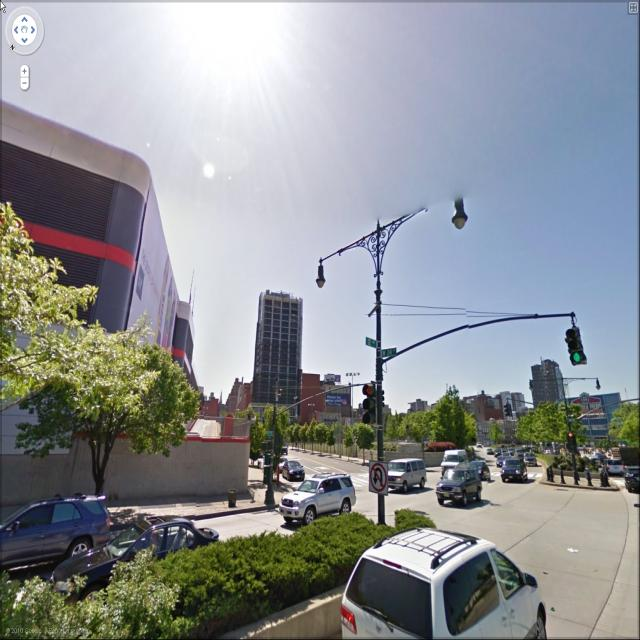b_1: (253, 290, 307, 410), (466, 383, 534, 434), (528, 360, 572, 409)
b_2: (0, 91, 195, 419)
